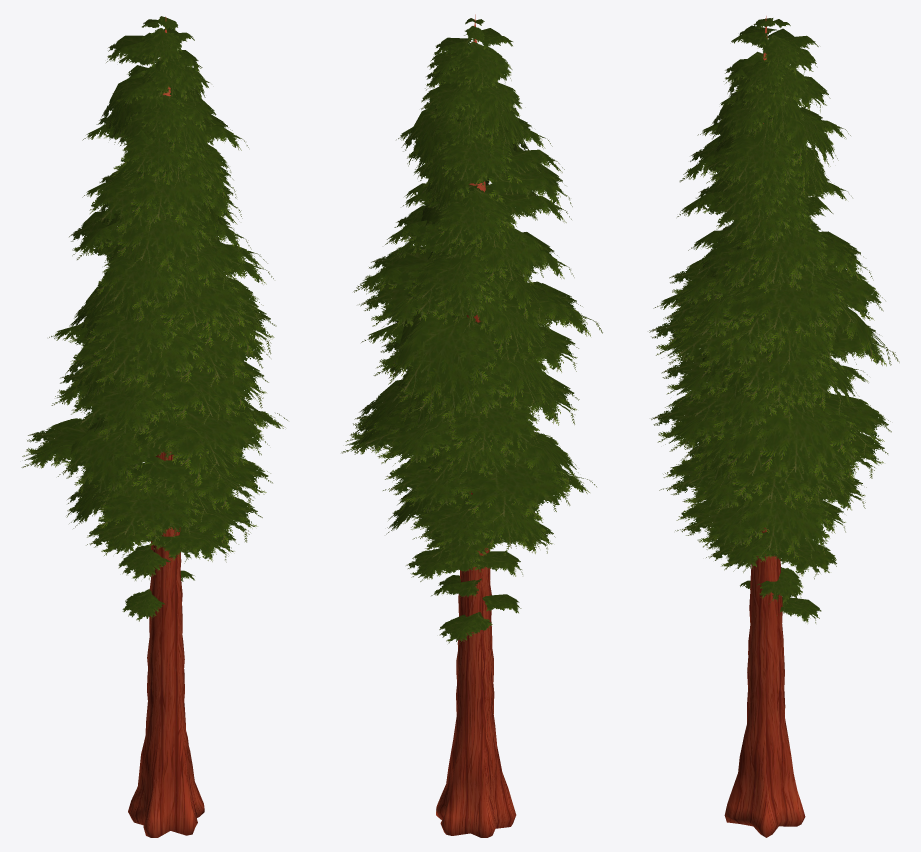
Rendered from sequoia_m1.gltf.
3 renders of one model, left to right at view 1: azimuth 30°, elevation 25°; view 2: azimuth 150°, elevation 25°; view 3: azimuth 270°, elevation 25°, orthographic.
Parts seen in each view (by area): view 1: sequoia_m1; view 2: sequoia_m1; view 3: sequoia_m1.
Part boxes in pixels (x1,y1,x2,y2): sequoia_m1: (21,16,287,837); sequoia_m1: (341,14,602,837); sequoia_m1: (649,16,899,837).
Size of the model in its own units: 6.02 by 18 by 5.41.
2 materials, 2 textured.
